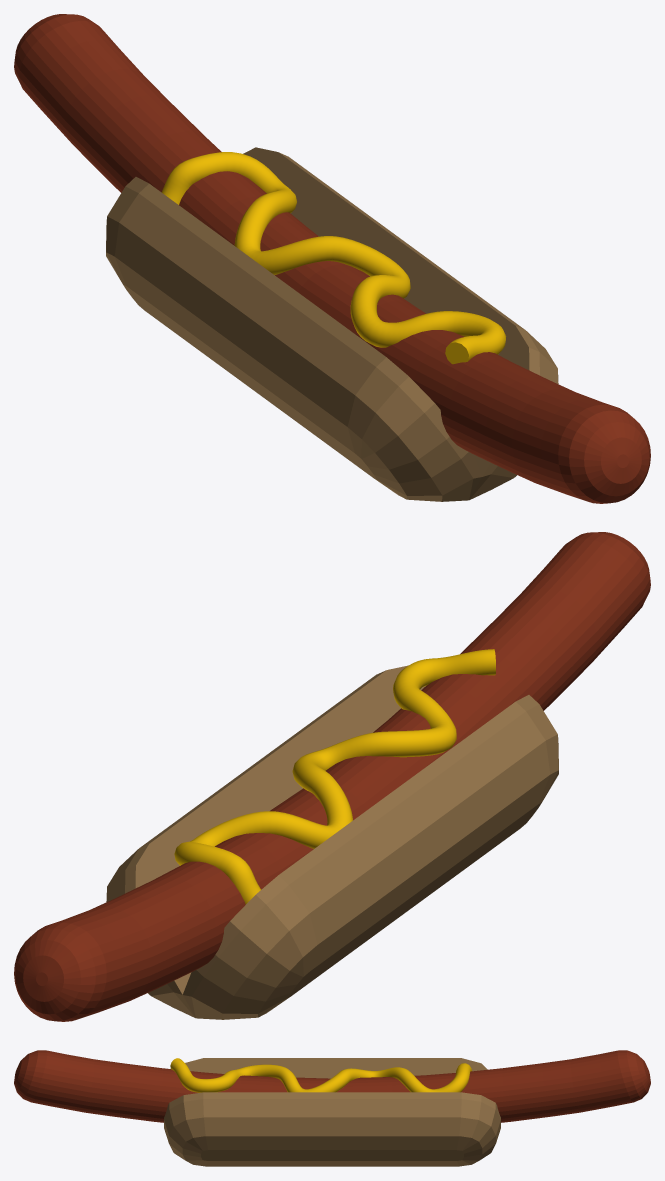
File: Weiner.fbx
The picture shows the model from 3 angles, top to bottom: view 1: azimuth 30°, elevation 25°; view 2: azimuth 150°, elevation 25°; view 3: azimuth 270°, elevation 25°; orthographic projection. The views are drawn at different scales.
Parts seen in each view (by area): view 1: Cube, Cylinder, BezierCurve; view 2: Cube, Cylinder, BezierCurve; view 3: Cube, Cylinder, BezierCurve.
Part boxes in pixels (x1,y1,x2,y2): Cube: (106,147,558,501); Cylinder: (14,14,650,503); BezierCurve: (161,152,506,364); Cube: (106,665,558,1019); Cylinder: (14,532,650,1021); BezierCurve: (174,649,495,904); Cube: (164,1058,500,1166); Cylinder: (14,1050,650,1122); BezierCurve: (170,1058,471,1092).
Bounding box in the file's own units: 177 × 162 × 886.
